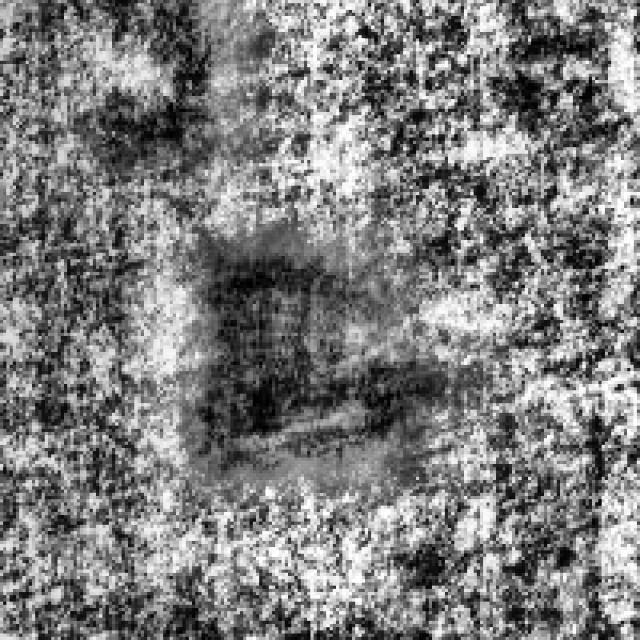Scratches: (172, 224, 438, 471)
